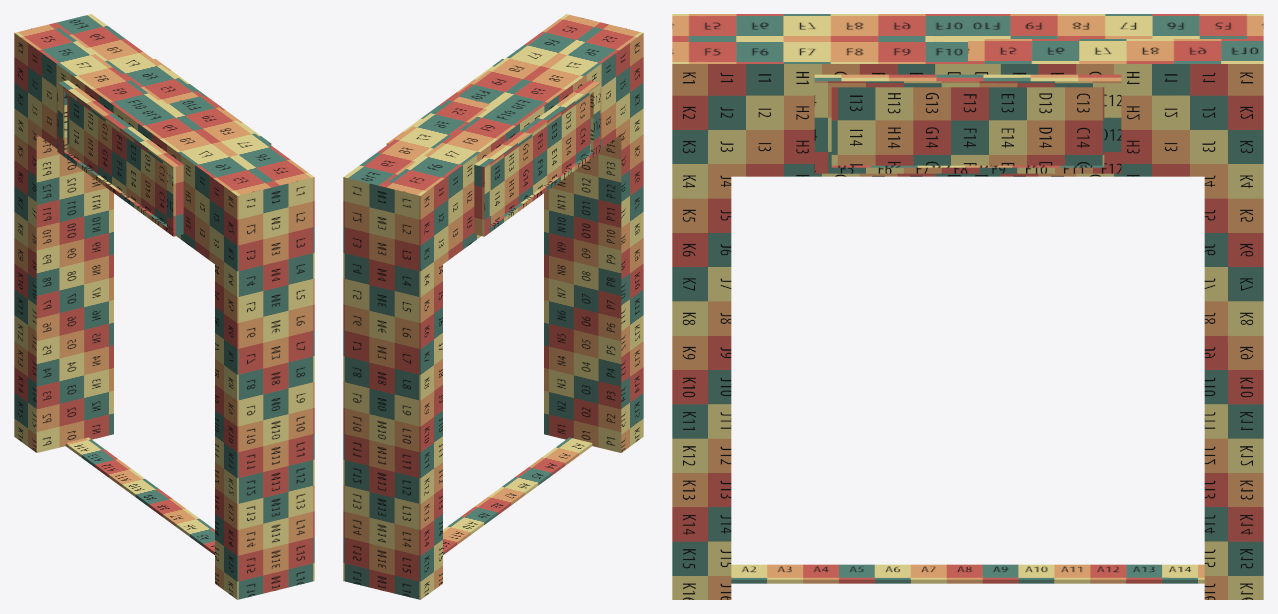
Rendered from Doorway.fbx.
The picture shows the model from 3 angles, left to right: view 1: azimuth 30°, elevation 25°; view 2: azimuth 150°, elevation 25°; view 3: azimuth 270°, elevation 25°; orthographic projection. The views are drawn at different scales.
Parts seen in each view (by area): view 1: Doorway, Doorway_Sign; view 2: Doorway, Doorway_Sign; view 3: Doorway, Doorway_Sign.
Part boxes in pixels (<box>): Doorway: <box>14,14,314,599</box>; Doorway_Sign: <box>57,59,271,236</box>; Doorway: <box>343,14,643,599</box>; Doorway_Sign: <box>386,59,600,236</box>; Doorway: <box>672,14,1263,599</box>; Doorway_Sign: <box>814,74,1121,173</box>.
Size of the model in its own units: 50.63 by 200 by 200.
